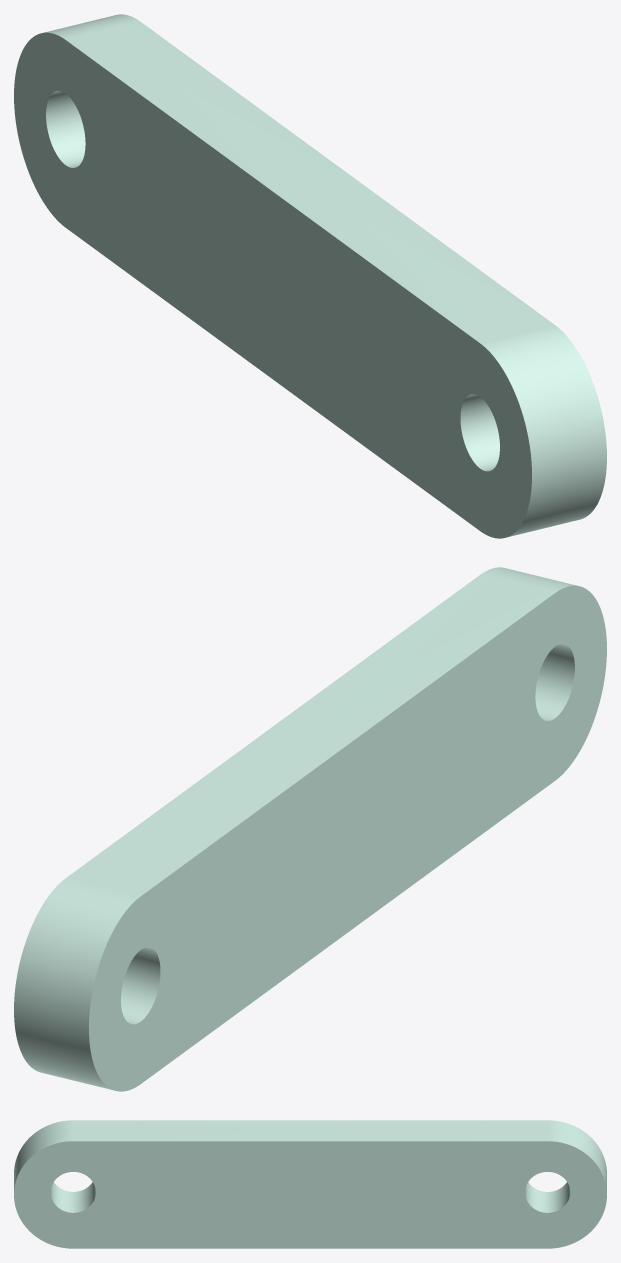
The picture shows the model from 3 angles, top to bottom: view 1: azimuth 30°, elevation 25°; view 2: azimuth 150°, elevation 25°; view 3: azimuth 270°, elevation 25°; orthographic projection. The views are drawn at different scales.
Parts seen in each view (by area): view 1: Renderer Node; view 2: Renderer Node; view 3: Renderer Node.
Boxes of the visible parts, bbox=[...] form: Renderer Node: bbox=[14, 14, 606, 538]; Renderer Node: bbox=[14, 567, 606, 1091]; Renderer Node: bbox=[14, 1120, 606, 1248].
Size of the model in its own units: 0.0938 by 0.2245 by 1.12.
